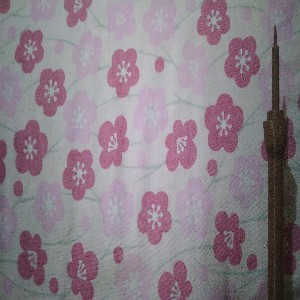solder: (262, 23, 291, 300)
